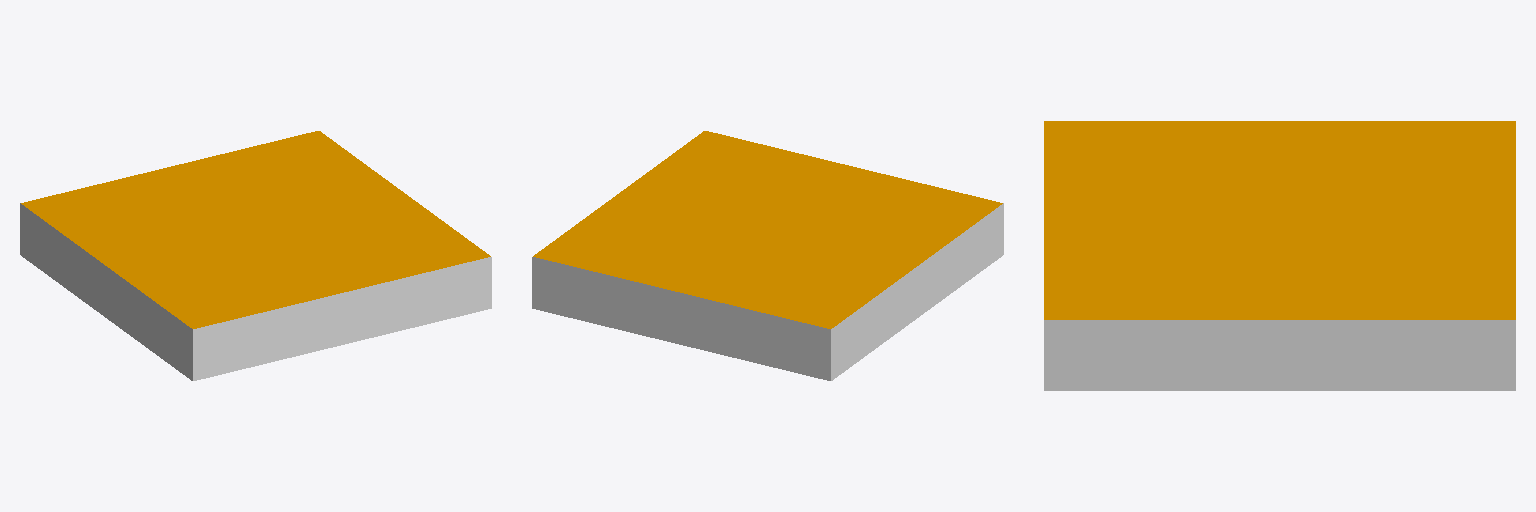
The robot description file, URDF, robot "ar_2020":
<robot name="ar_2020">

	<!-- * * * Link Definitions * * * -->

    <link name="simple_box_base_link">
 	    <inertial>
            <origin xyz="0 0 0" rpy="0 0 0"/>
            <mass value="1.0" />
            <inertia ixx="0.0741666666667" ixy="0.0" ixz="0.0" iyy="0.0585416666667" iyz="0.0" izz="0.0260416666667"/>
        </inertial>
        <collision>
            <origin xyz="0 0 0" rpy="0 0 0"/>
            <geometry>
                <box size="0.25 0.50 0.1"/>
            </geometry>
        </collision>
        <visual>
            <origin rpy="0.0 0 0" xyz="0 0 0"/>
            <geometry>
                <!--<box size="0.8 0.8 0.2"/>-->
                <mesh filename="package://asl_turtlebot/models/box_apple/box_apple.dae"/>
            </geometry>
        </visual>
    </link>
    
    <gazebo reference="simple_box_base_link">
        <kp>100000.0</kp>
        <kd>100000.0</kd>
        <mu1>0.1</mu1>
        <mu2>0.1</mu2>
        <fdir1>1 0 0</fdir1>
    </gazebo>

</robot>

--- Facts derived from the render (not from the file) ---
Views: 3 orthographic renders of the robot side by side, from view 1: azimuth 30°, elevation 25°; view 2: azimuth 150°, elevation 25°; view 3: azimuth 270°, elevation 25°.
Model ar_2020 with 1 links and 0 joints (none), rooted at simple_box_base_link, posed every joint at zero.
Links seen in each view (by area): view 1: simple_box_base_link; view 2: simple_box_base_link; view 3: simple_box_base_link.
Link boxes in pixels (x1=…): simple_box_base_link: x1=20, y1=131, x2=491, y2=380; simple_box_base_link: x1=532, y1=131, x2=1003, y2=380; simple_box_base_link: x1=1044, y1=121, x2=1515, y2=390.
Bounding box of the posed robot: 0.09 × 0.09 × 0.015 m (x, y, z).
1 mesh visuals loaded from 1 distinct referenced files (1 Collada DAE).